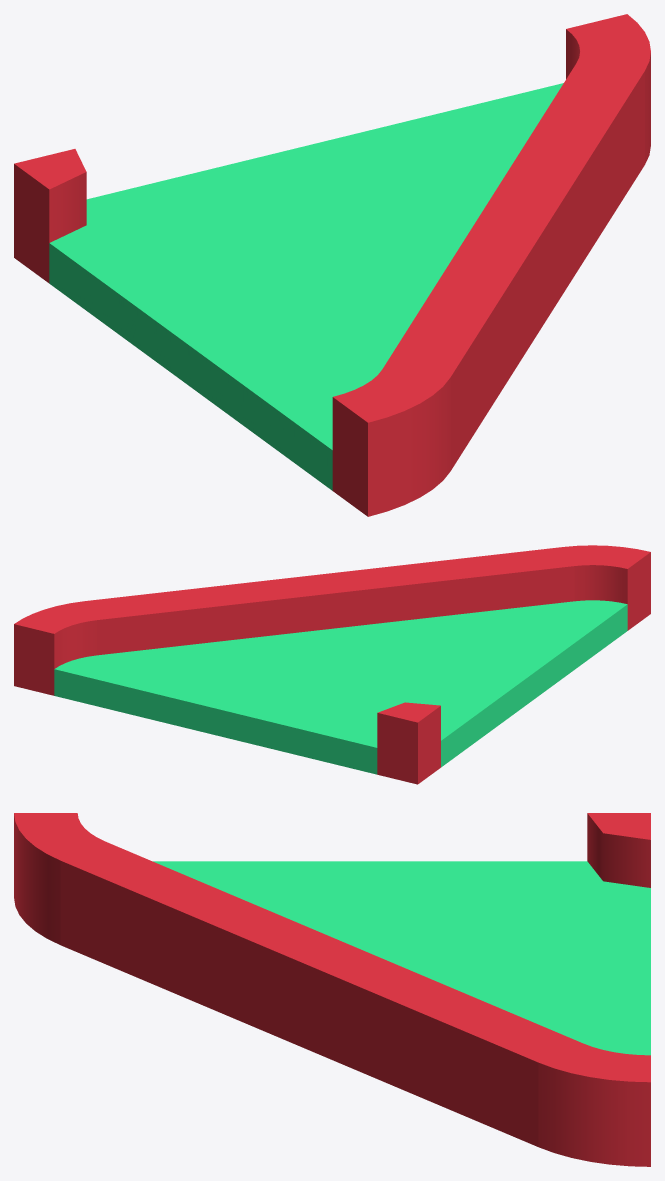
The model's file is skewCorner.fbx.
The picture shows the model from 3 angles, top to bottom: view 1: azimuth 30°, elevation 25°; view 2: azimuth 150°, elevation 25°; view 3: azimuth 270°, elevation 25°; orthographic projection. The views are drawn at different scales.
Parts seen in each view (by area): view 1: skewCorner; view 2: skewCorner; view 3: skewCorner.
Part boxes in pixels (x1,y1,x2,y2): skewCorner: (14, 14, 650, 516); skewCorner: (14, 545, 650, 784); skewCorner: (14, 813, 650, 1166).
Bounding box in the file's own units: 10 × 1.47 × 10.
